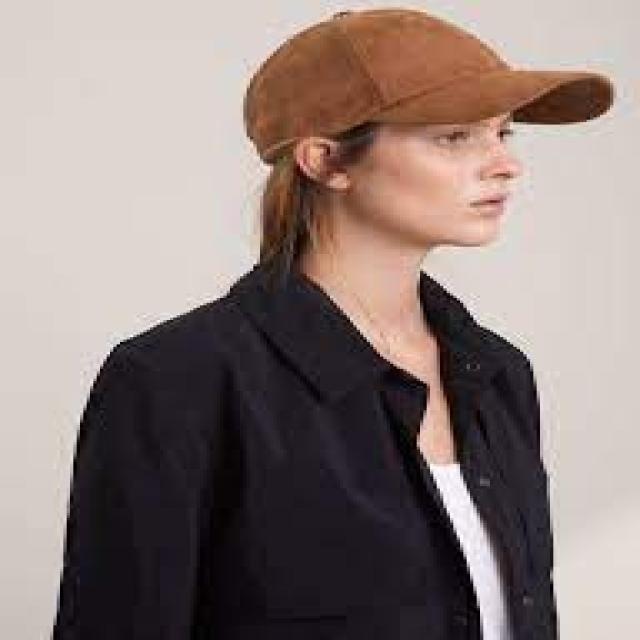cap: (225, 0, 640, 160)
